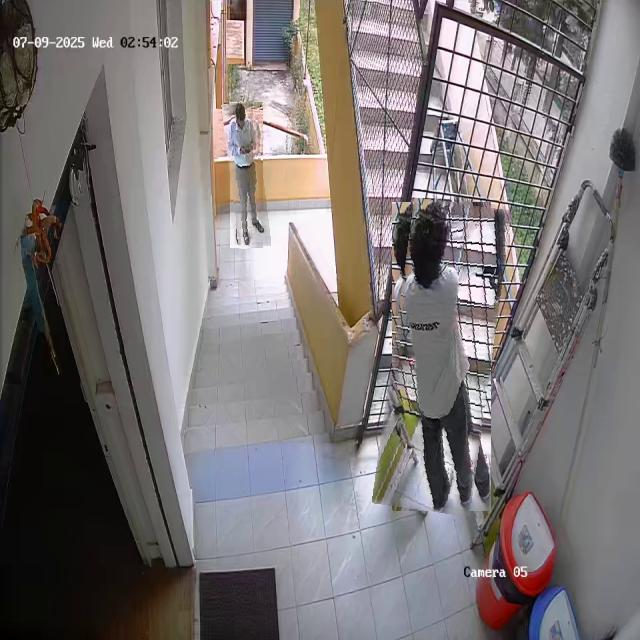person: (382, 200, 501, 514), (226, 101, 267, 249)
